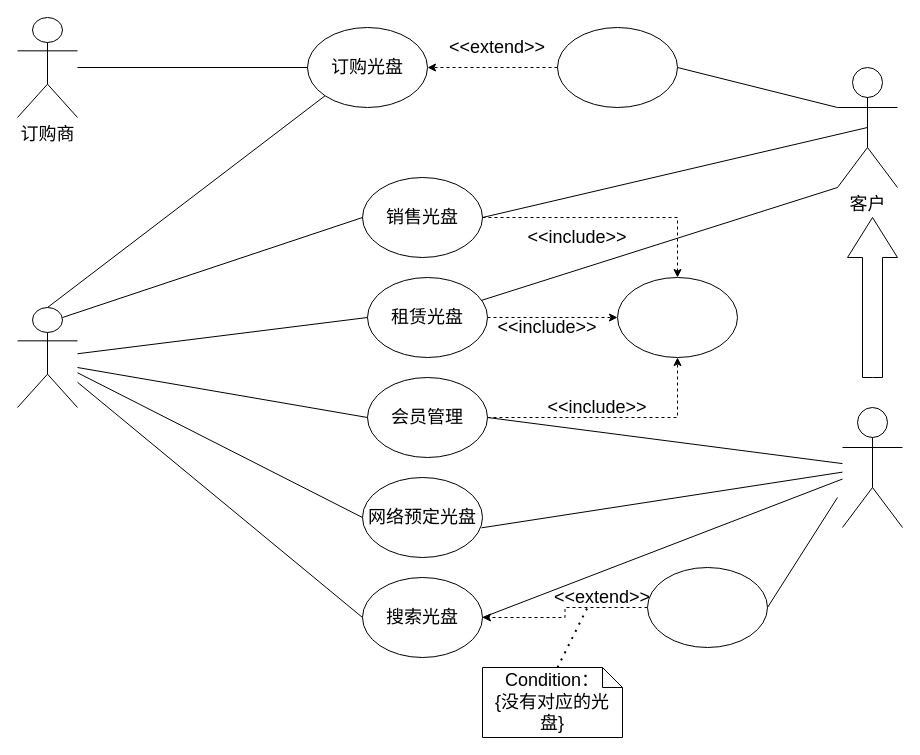
This 920x755 diagram has some shape labels left out. The shapes that lost their labels are listed below. From the top down, each one's box as (x1, y1, x2, y2) in pixels, then its label:
(556, 26, 678, 108): 根据请求
(616, 276, 738, 358): 条码扫描
(16, 306, 78, 408): 商店
(842, 406, 902, 528): 会员
(646, 566, 768, 648): 提出预定
